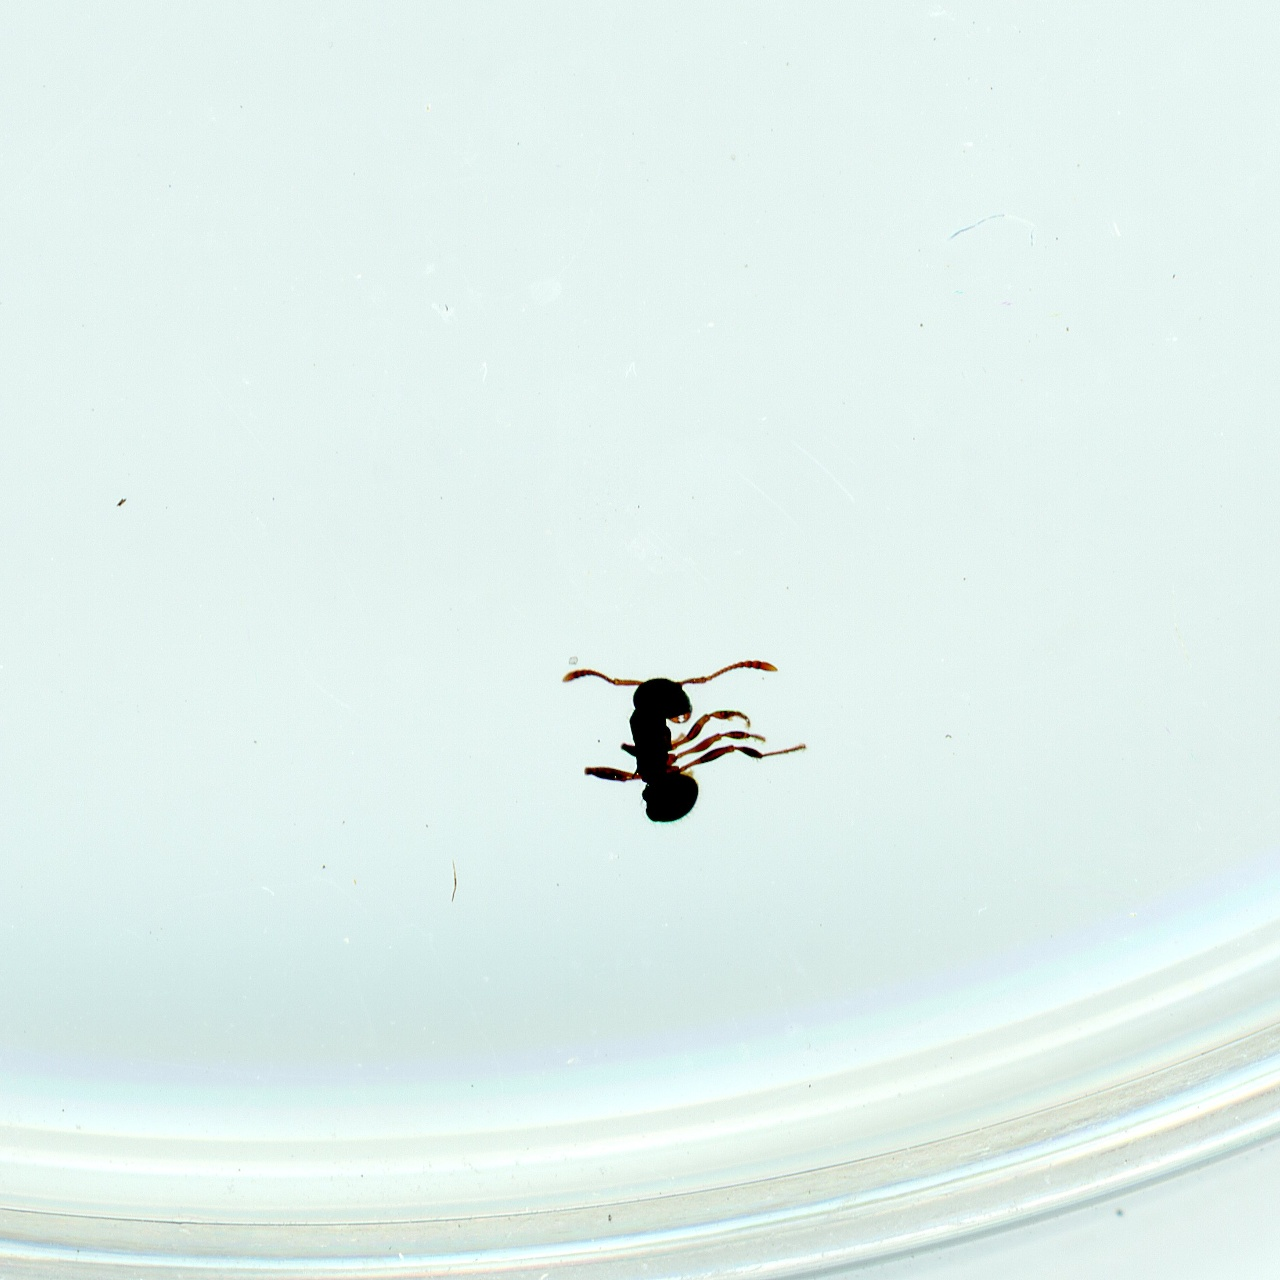arthropod: (540, 656, 819, 830)
